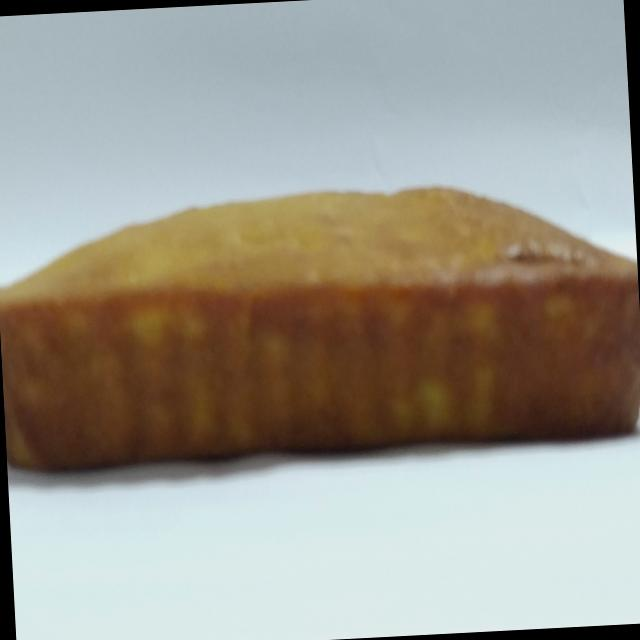Sopa: (0, 150, 640, 488)
